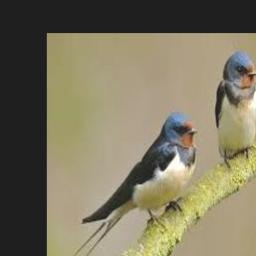Swallow: (61, 113, 198, 256), (214, 52, 256, 162)
